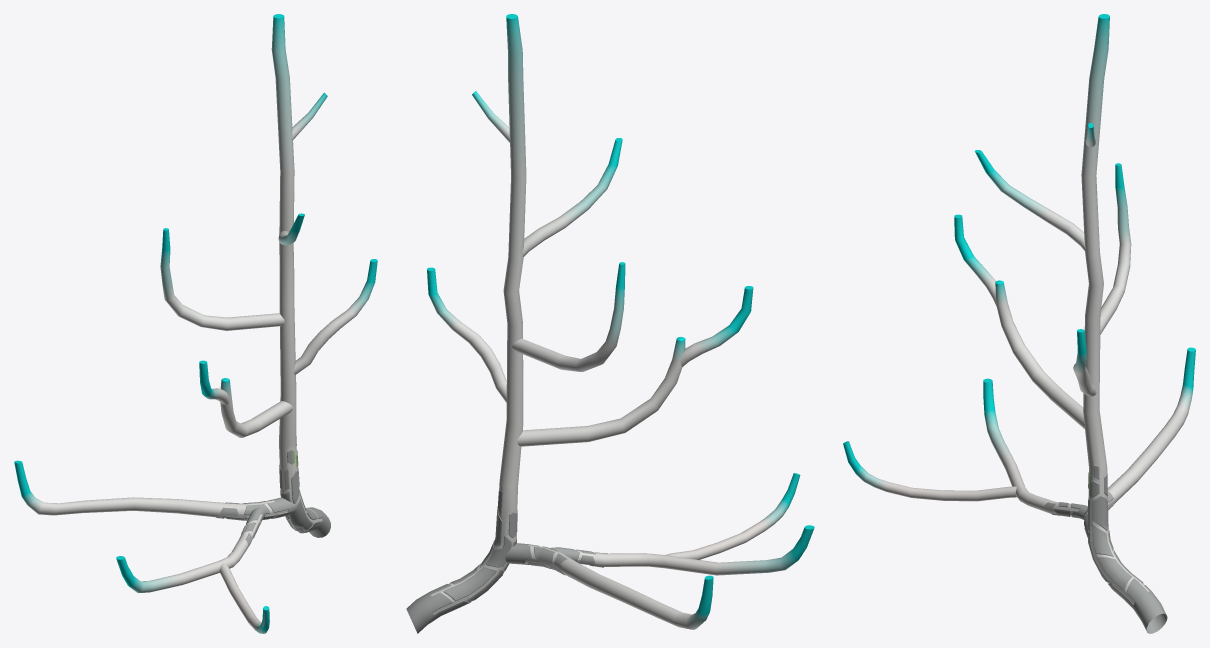
3 views of the same model, side by side, from view 1: azimuth 30°, elevation 25°; view 2: azimuth 150°, elevation 25°; view 3: azimuth 270°, elevation 25° (orthographic). The views are drawn at different scales.
Visible parts, largest first — view 1: G:\FFXIV-MapTools\exports\x6f3\bg\ex5\01_xkt_x6\fld\x6f3\bgp (×3); view 2: G:\FFXIV-MapTools\exports\x6f3\bg\ex5\01_xkt_x6\fld\x6f3\bgp (×3); view 3: G:\FFXIV-MapTools\exports\x6f3\bg\ex5\01_xkt_x6\fld\x6f3\bgp (×3).
Part boxes in pixels (x1=…): G:\FFXIV-MapTools\exports\x6f3\bg\ex5\01_xkt_x6\fld\x6f3\bgp (×3): x1=14, y1=14, x2=377, y2=633; G:\FFXIV-MapTools\exports\x6f3\bg\ex5\01_xkt_x6\fld\x6f3\bgp (×3): x1=406, y1=14, x2=814, y2=633; G:\FFXIV-MapTools\exports\x6f3\bg\ex5\01_xkt_x6\fld\x6f3\bgp (×3): x1=843, y1=14, x2=1195, y2=633.
Size of the model in its own units: 64.19 by 110 by 59.93.
